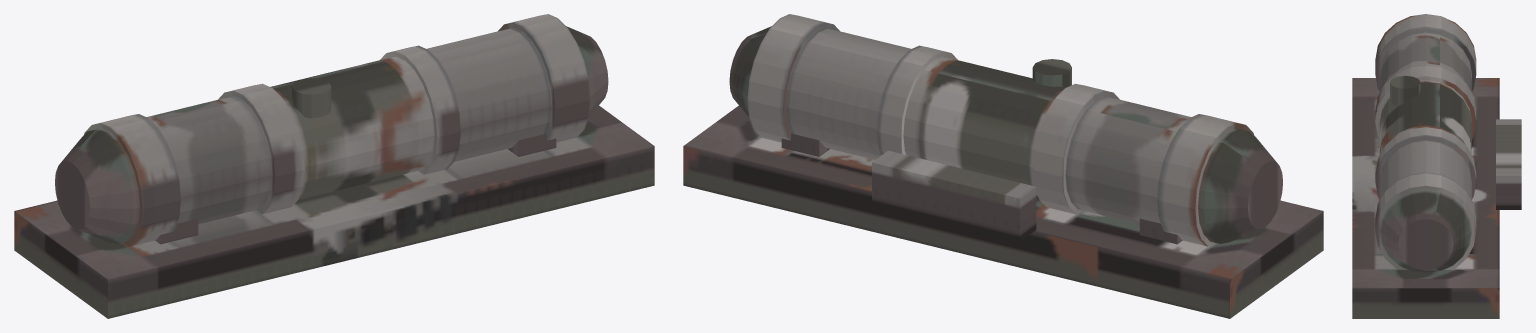
File: Building_AncientBasicRecharger.glb
3 views of the same model, side by side, from view 1: azimuth 30°, elevation 25°; view 2: azimuth 150°, elevation 25°; view 3: azimuth 270°, elevation 25° (orthographic). The views are drawn at different scales.
Visible parts, largest first — view 1: AncientBasicRecharger; view 2: AncientBasicRecharger; view 3: AncientBasicRecharger.
Part boxes in pixels (<box>): AncientBasicRecharger: <box>14,14,654,318</box>; AncientBasicRecharger: <box>683,14,1323,318</box>; AncientBasicRecharger: <box>1352,14,1521,318</box>.
Size of the model in its own units: 2.9 by 0.76 by 0.99.
1 material, 1 textured.
